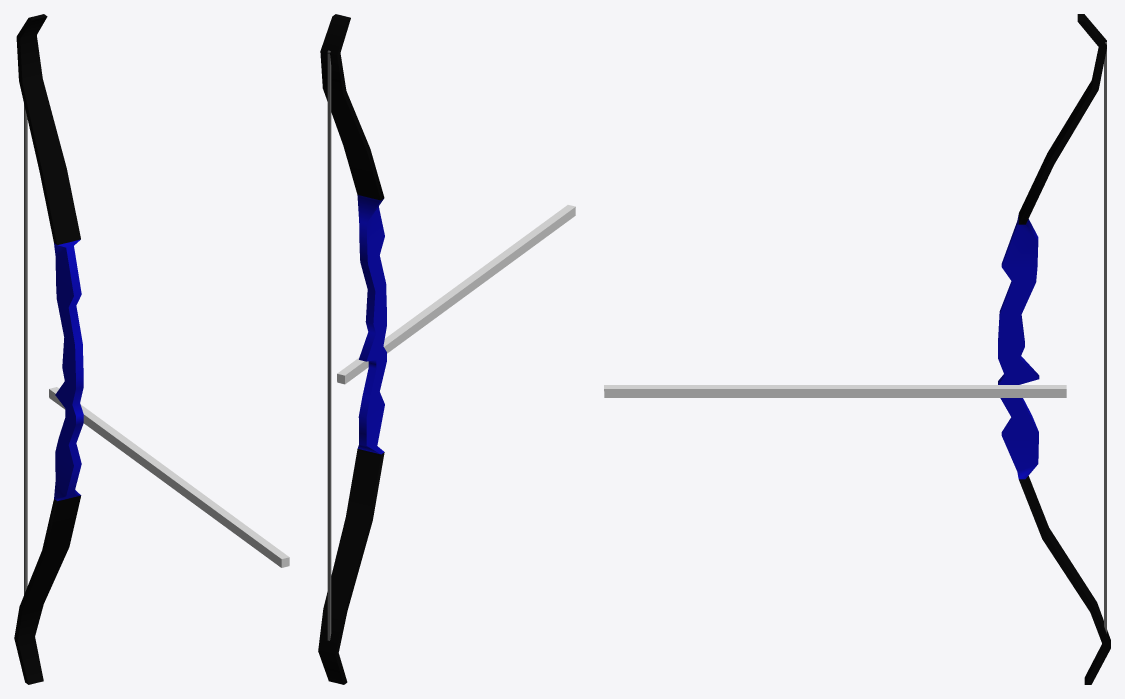
Rendered from HEW_Weapon_Archery.fbx.
3 renders of one model, left to right at view 1: azimuth 30°, elevation 25°; view 2: azimuth 150°, elevation 25°; view 3: azimuth 270°, elevation 25°, orthographic.
Parts seen in each view (by area): view 1: pCube13, pCube14; view 2: pCube13, pCube14; view 3: pCube13, pCube14.
Boxes of the visible parts, <box> form: pCube13: <box>14,14,289,684</box>; pCube14: <box>24,104,27,594</box>; pCube13: <box>318,14,575,684</box>; pCube14: <box>327,50,331,640</box>; pCube13: <box>604,14,1110,684</box>; pCube14: <box>1104,42,1106,633</box>.
Size of the model in its own units: 1 by 26.76 by 18.53.
